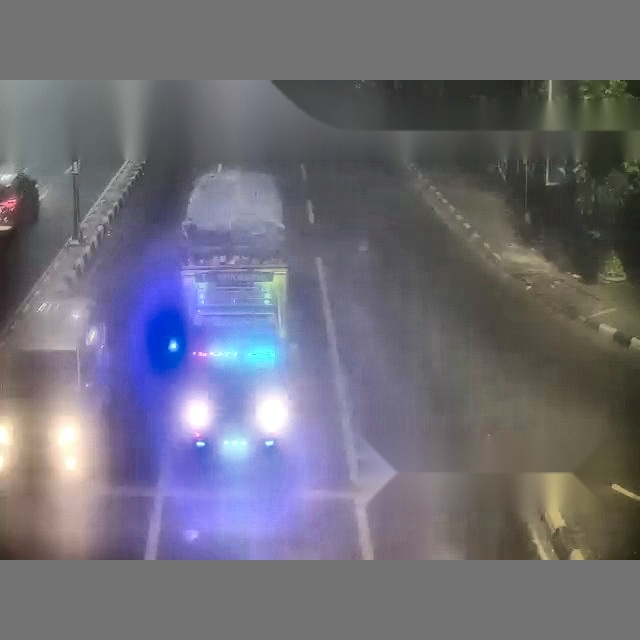Mobil: (0, 173, 38, 234)
